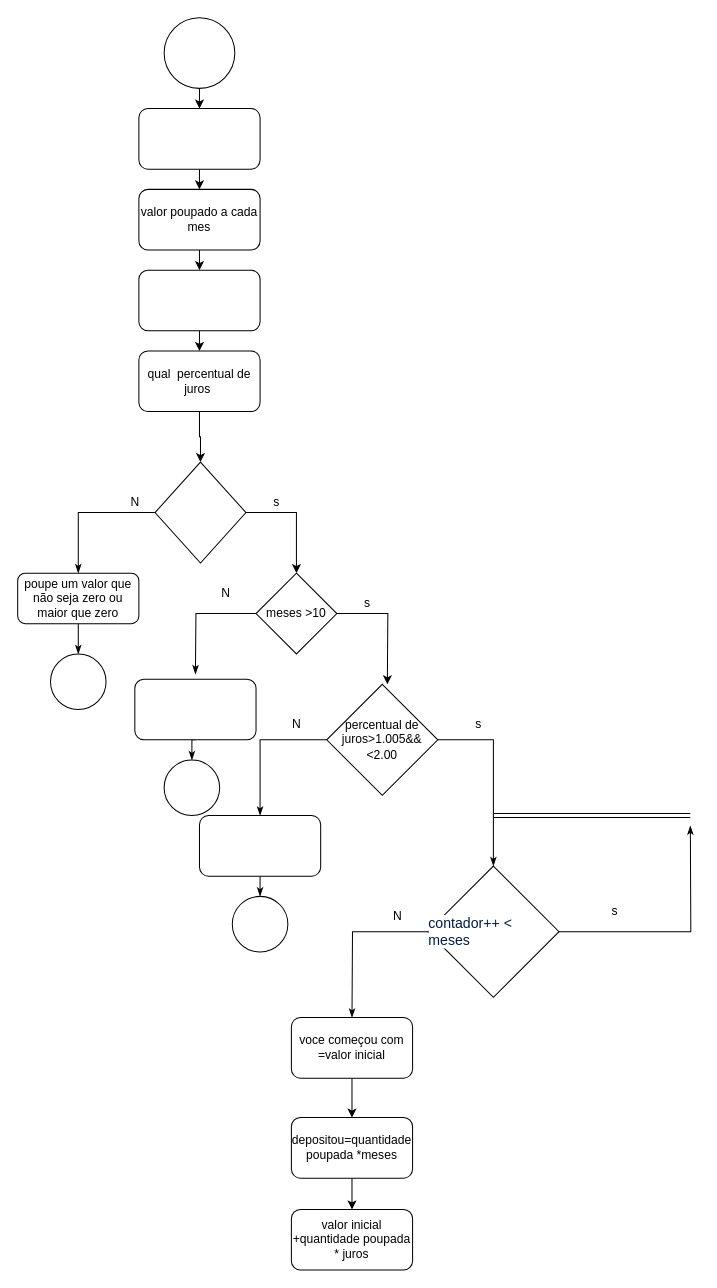
The diagram is 717 pixels wide and 1288 high, and some of its shapes have lost their labels. The box of each missing label's shape, as (x1, y1, x2, y2) in pixels:
a quantidade de meses tem que ser maior: (134, 678, 256, 740)
percentual de juros tem que ser maior que meio e menor que dois: (198, 815, 321, 876)
quantidade de meses guardado: (138, 269, 260, 331)
valor guardado: (138, 108, 260, 169)
valor poupado>0: (154, 461, 246, 563)
